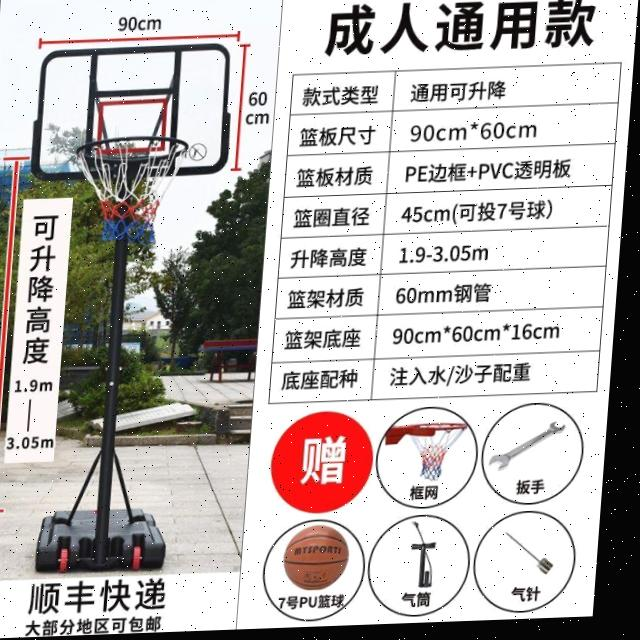basketball: (280, 523, 353, 592)
hoop: (68, 133, 189, 244), (402, 420, 469, 483)
